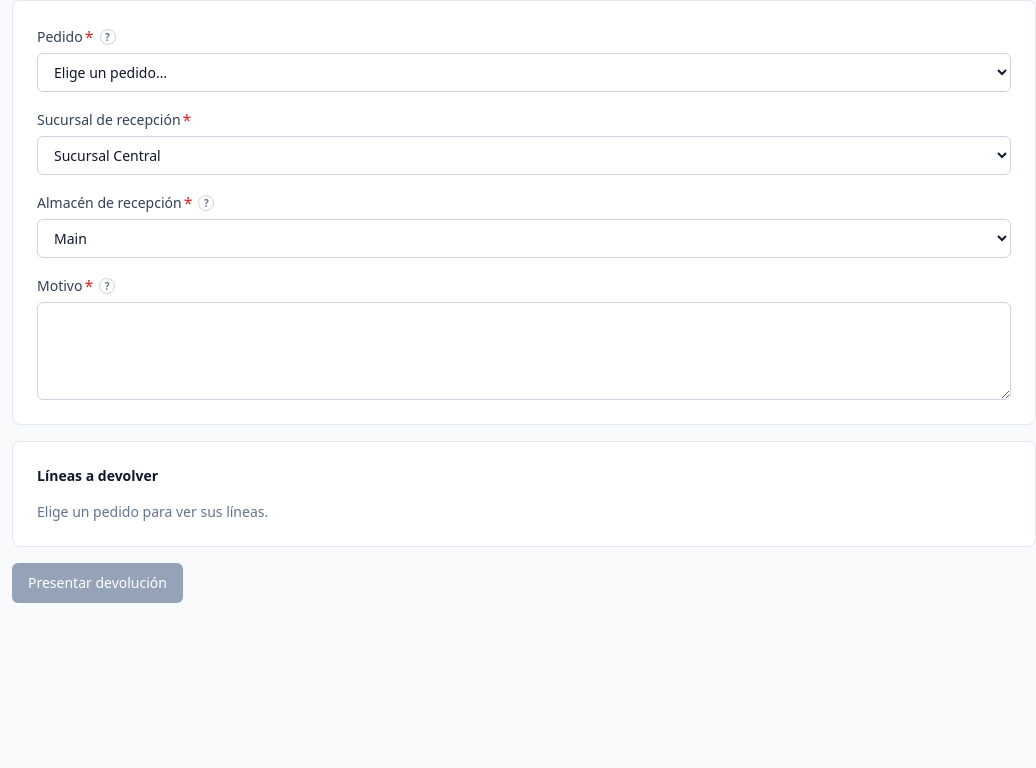
Scenario: ReturnForm › loads the chosen order's lines and computes returnable = sold − already returned
Select "ORD-000001 — Contoso" in the dropdown labelled "Pedido": x=524, y=72 x1=37 y1=53 x2=1011 y2=92
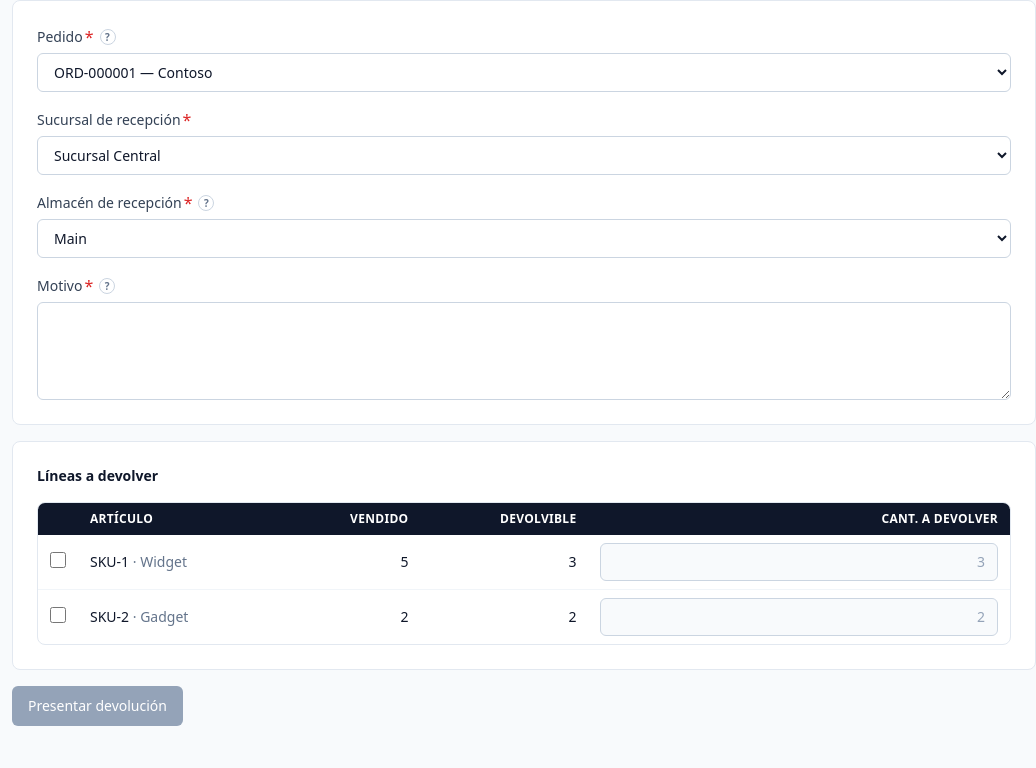
Now the text "SKU-1" is shown, box x1=90 y1=552 x2=129 y2=571
Now the number field named "Cantidad a devolver de SKU-1" in the row of "SKU-1" holds "3", box x1=600 y1=543 x2=998 y2=581
Now the number field named "Cantidad a devolver de SKU-2" in the row of "SKU-2" holds "2", box x1=600 y1=598 x2=998 y2=636
